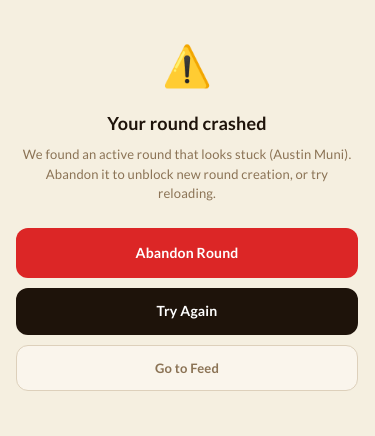
Test case: <ErrorBoundary /> — stuck active round (Jonathan's scenario) › Abandon failure surfaces an error + re-enables buttons
The image size is (375, 436).
Click the button with test id "error-boundary-abandon". click: (187,253)
box: 16,228 -> 358,278
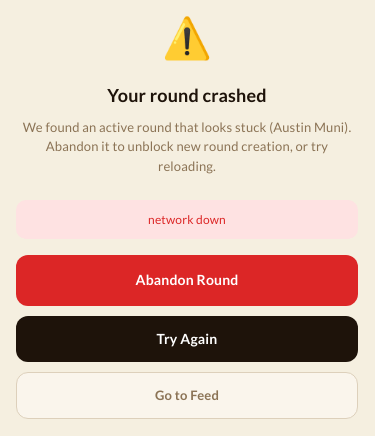
Expected: the button with test id "error-boundary-abandon" is enabled, 16,256 -> 358,306
Now the message "network down" is shown, box 16,200 -> 358,240
Now the message with test id "error-boundary-abandon-error" reads "network down", box 148,212 -> 226,227
